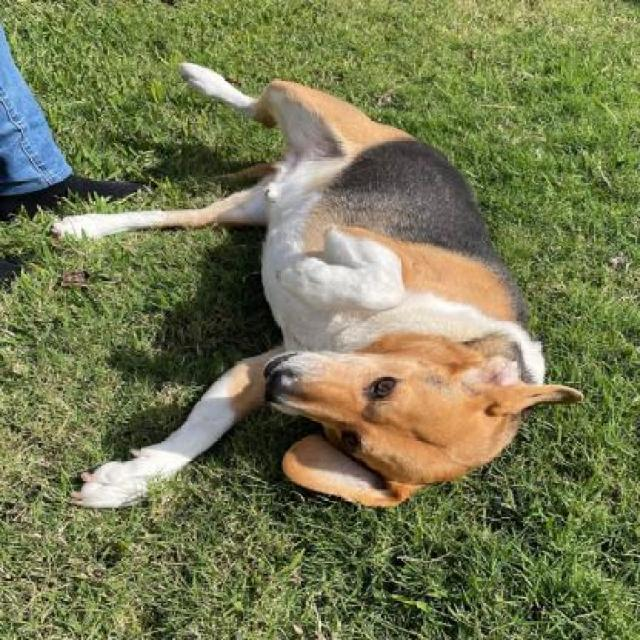Dog: (56, 58, 586, 514)
